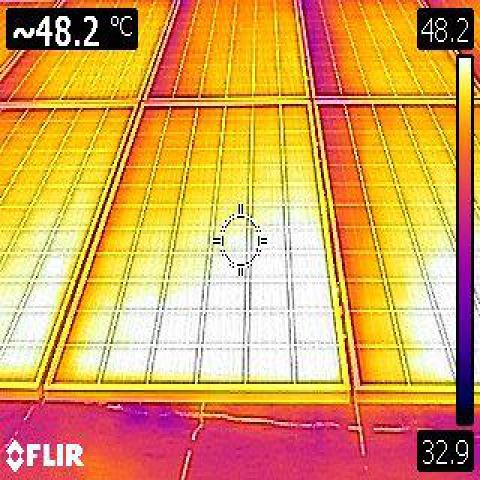fault: (292, 217, 324, 374), (0, 262, 45, 364), (248, 267, 288, 369), (209, 273, 241, 366), (166, 288, 197, 360), (120, 302, 149, 362)
